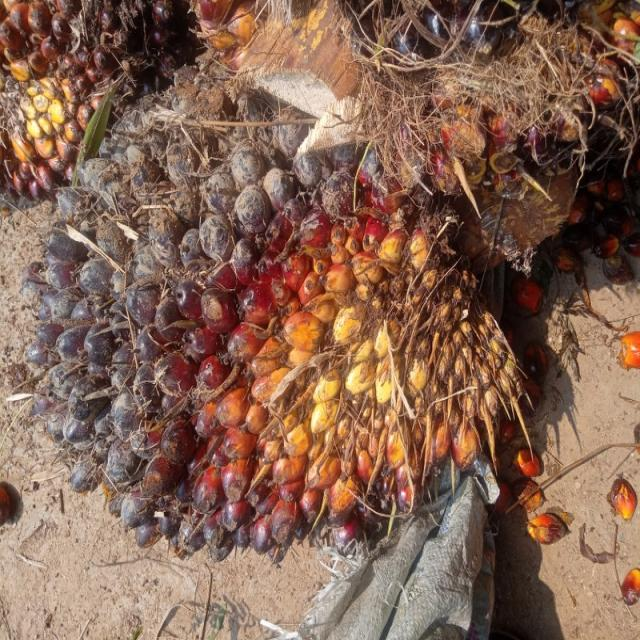fraksi 00: (13, 72, 556, 552)
